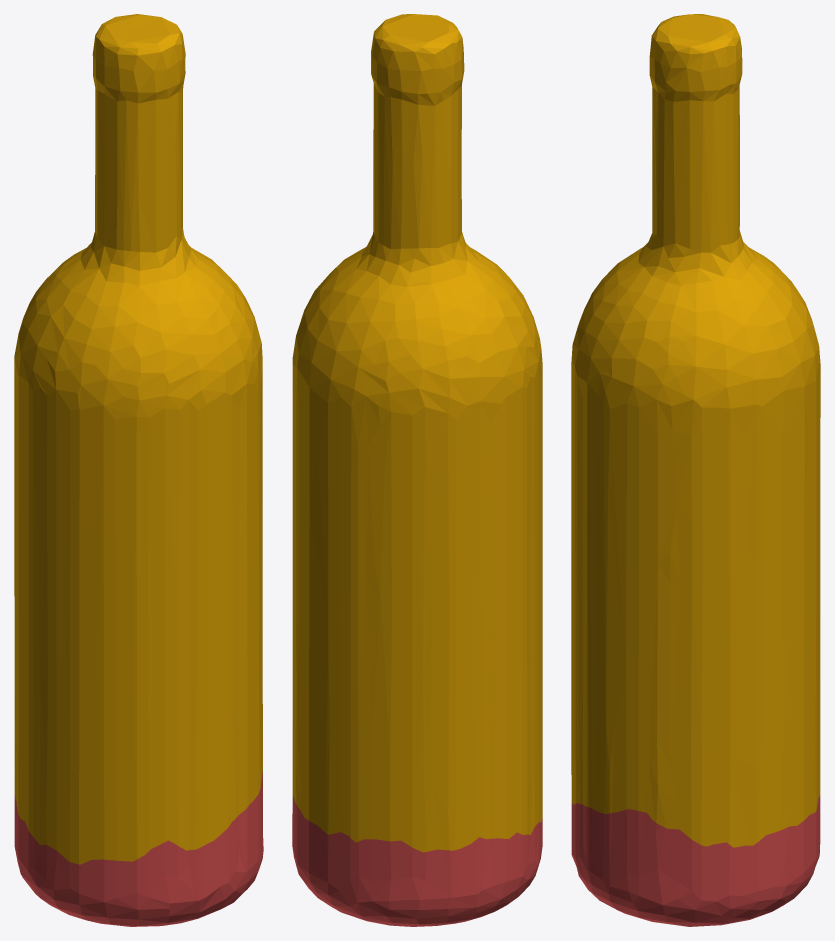
Rendered from fractured_3_2pcs.glb.
The picture shows the model from 3 angles, left to right: view 1: azimuth 30°, elevation 25°; view 2: azimuth 150°, elevation 25°; view 3: azimuth 270°, elevation 25°; orthographic projection.
Visible parts, largest first — view 1: piece_0.obj, piece_1.obj; view 2: piece_0.obj, piece_1.obj; view 3: piece_0.obj, piece_1.obj.
Boxes of the visible parts, <box> form: piece_0.obj: <box>14,14,262,864</box>; piece_1.obj: <box>14,771,263,926</box>; piece_0.obj: <box>292,14,542,852</box>; piece_1.obj: <box>292,796,542,926</box>; piece_0.obj: <box>571,14,820,847</box>; piece_1.obj: <box>571,795,820,926</box>.
Bounding box in the file's own units: 0.2625 × 1 × 0.2625.
